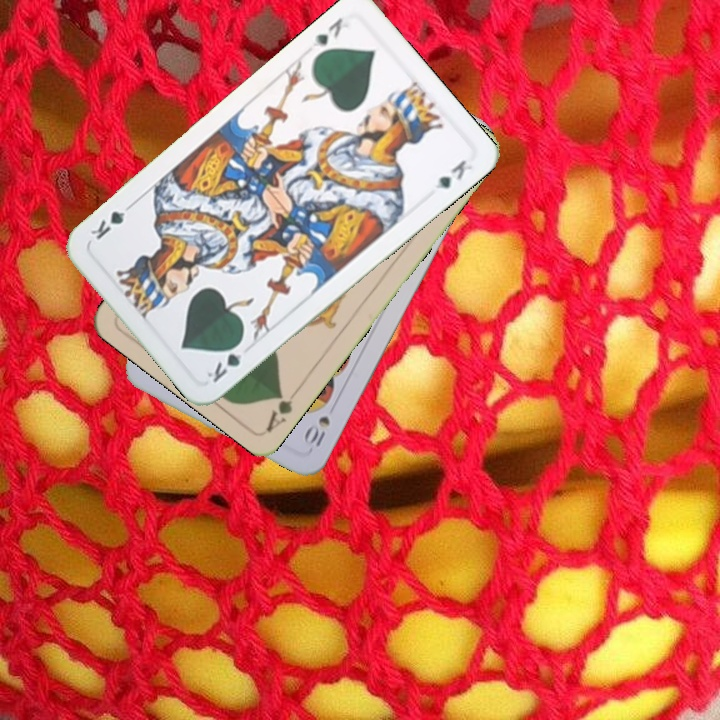GA: (262, 388, 295, 434)
GK: (202, 336, 246, 386), (308, 13, 346, 51)
S10: (302, 411, 333, 450)
